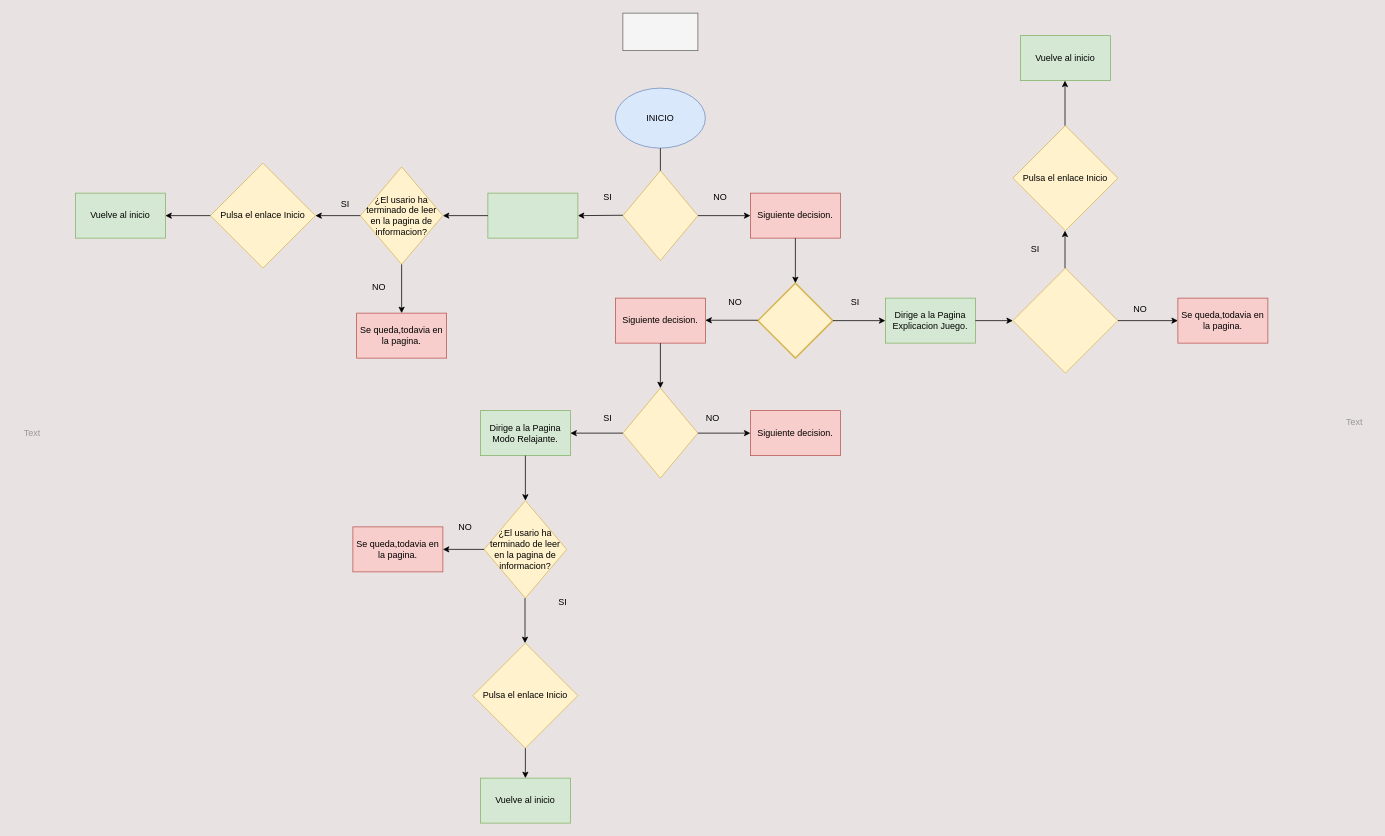
Some shapes in this 1385 by 836 pixel diagram are drawn without their labels. The box of each missing label's shape, as (x1, y1, x2, y2) in pixels:
Diagrama Navegacion Web: (622, 12, 698, 51)
Dirige a la Pagina Informacion.: (487, 192, 578, 238)
¿El usario ha terminado de leer en la pagina de explicacion juego ?: (1012, 267, 1118, 373)
¿El usario selecciona Explicacion Juego?: (757, 282, 833, 358)
¿El usario selecciona informacion?: (622, 170, 698, 261)
¿El usario selecciona modo relajante?: (622, 387, 698, 478)
